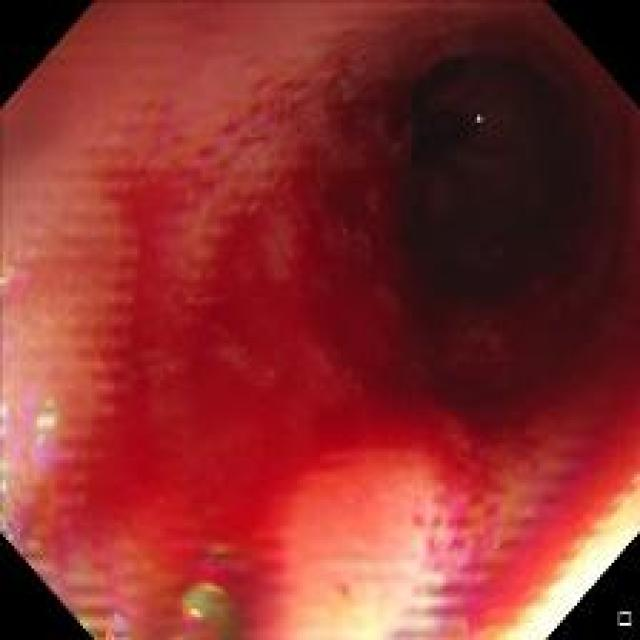blood: (26, 64, 410, 605), (414, 329, 609, 625)
color misalignment: (6, 266, 66, 534), (100, 572, 239, 631)
contrast: (364, 48, 605, 390)
saturation: (502, 494, 634, 635), (316, 520, 444, 634)
specularity: (35, 396, 61, 444), (475, 112, 481, 125)
